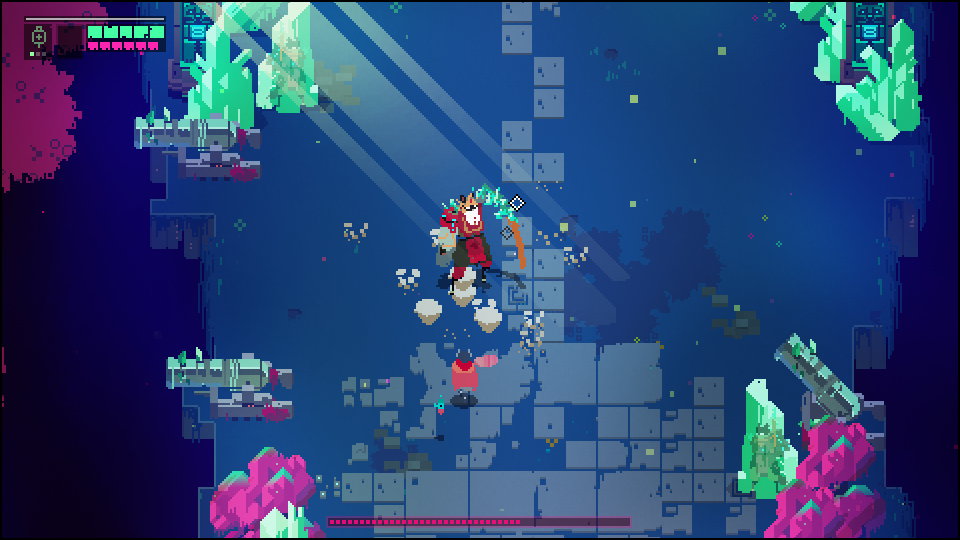hanged_man: (428, 180, 532, 300)
player: (448, 346, 481, 407)
